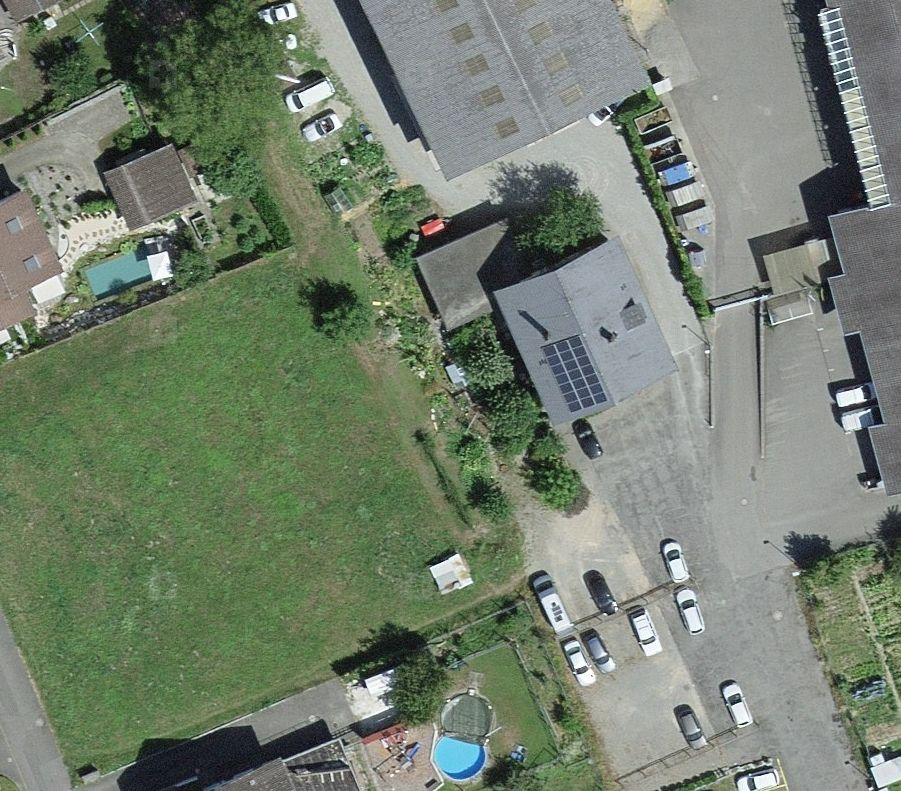solar: (539, 333, 611, 415)
